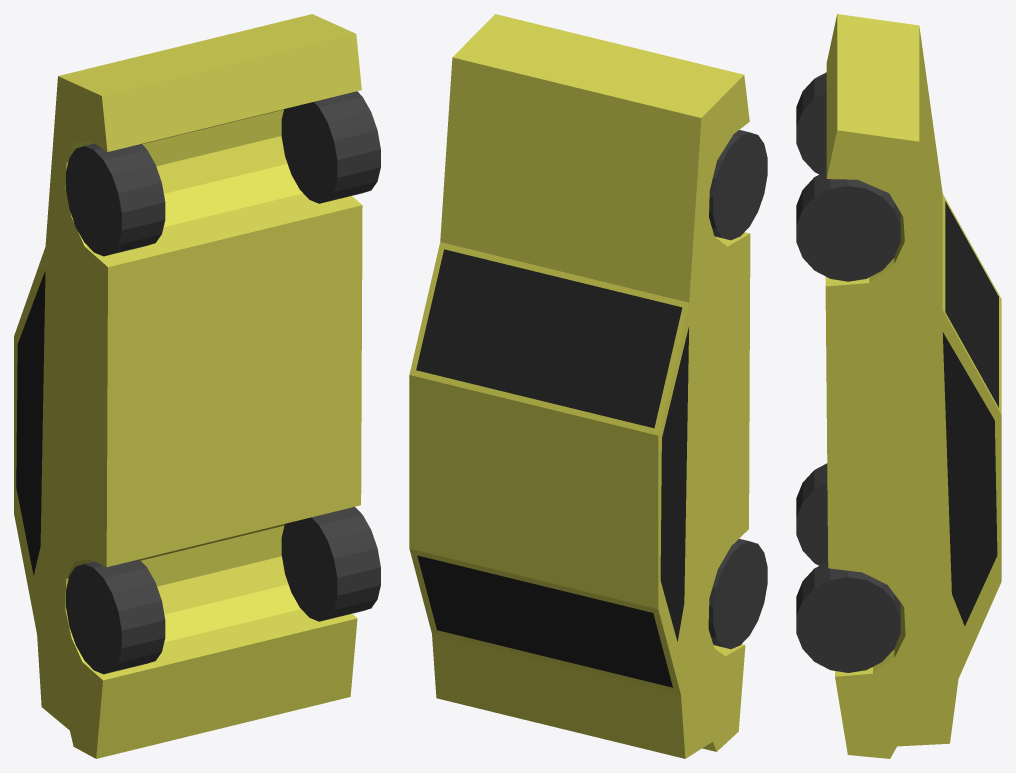
Rendered from car_yellow.dae.
3 renders of one model, left to right at view 1: azimuth 30°, elevation 25°; view 2: azimuth 150°, elevation 25°; view 3: azimuth 270°, elevation 25°, orthographic. The views are drawn at different scales.
Visible parts, largest first — view 1: body.006, wheel_rr, wheel_fr, wheel_rl, wheel_fl; view 2: body.006, wheel_rr, wheel_fr; view 3: body.006, wheel_rl, wheel_fl, wheel_rr, wheel_fr.
Boxes of the visible parts, <box> form: body.006: <box>14,14,362,758</box>; wheel_rr: <box>66,559,165,674</box>; wheel_fr: <box>66,143,165,256</box>; wheel_rl: <box>281,507,380,621</box>; wheel_fl: <box>281,91,380,203</box>; body.006: <box>409,14,750,758</box>; wheel_rr: <box>708,538,767,649</box>; wheel_fr: <box>709,130,767,240</box>; body.006: <box>825,14,1001,758</box>; wheel_rl: <box>796,561,900,672</box>; wheel_fl: <box>796,171,900,281</box>; wheel_rr: <box>796,463,827,565</box>; wheel_fr: <box>796,72,826,174</box>.
Size of the model in its own units: 2.04 by 1.49 by 5.04.
